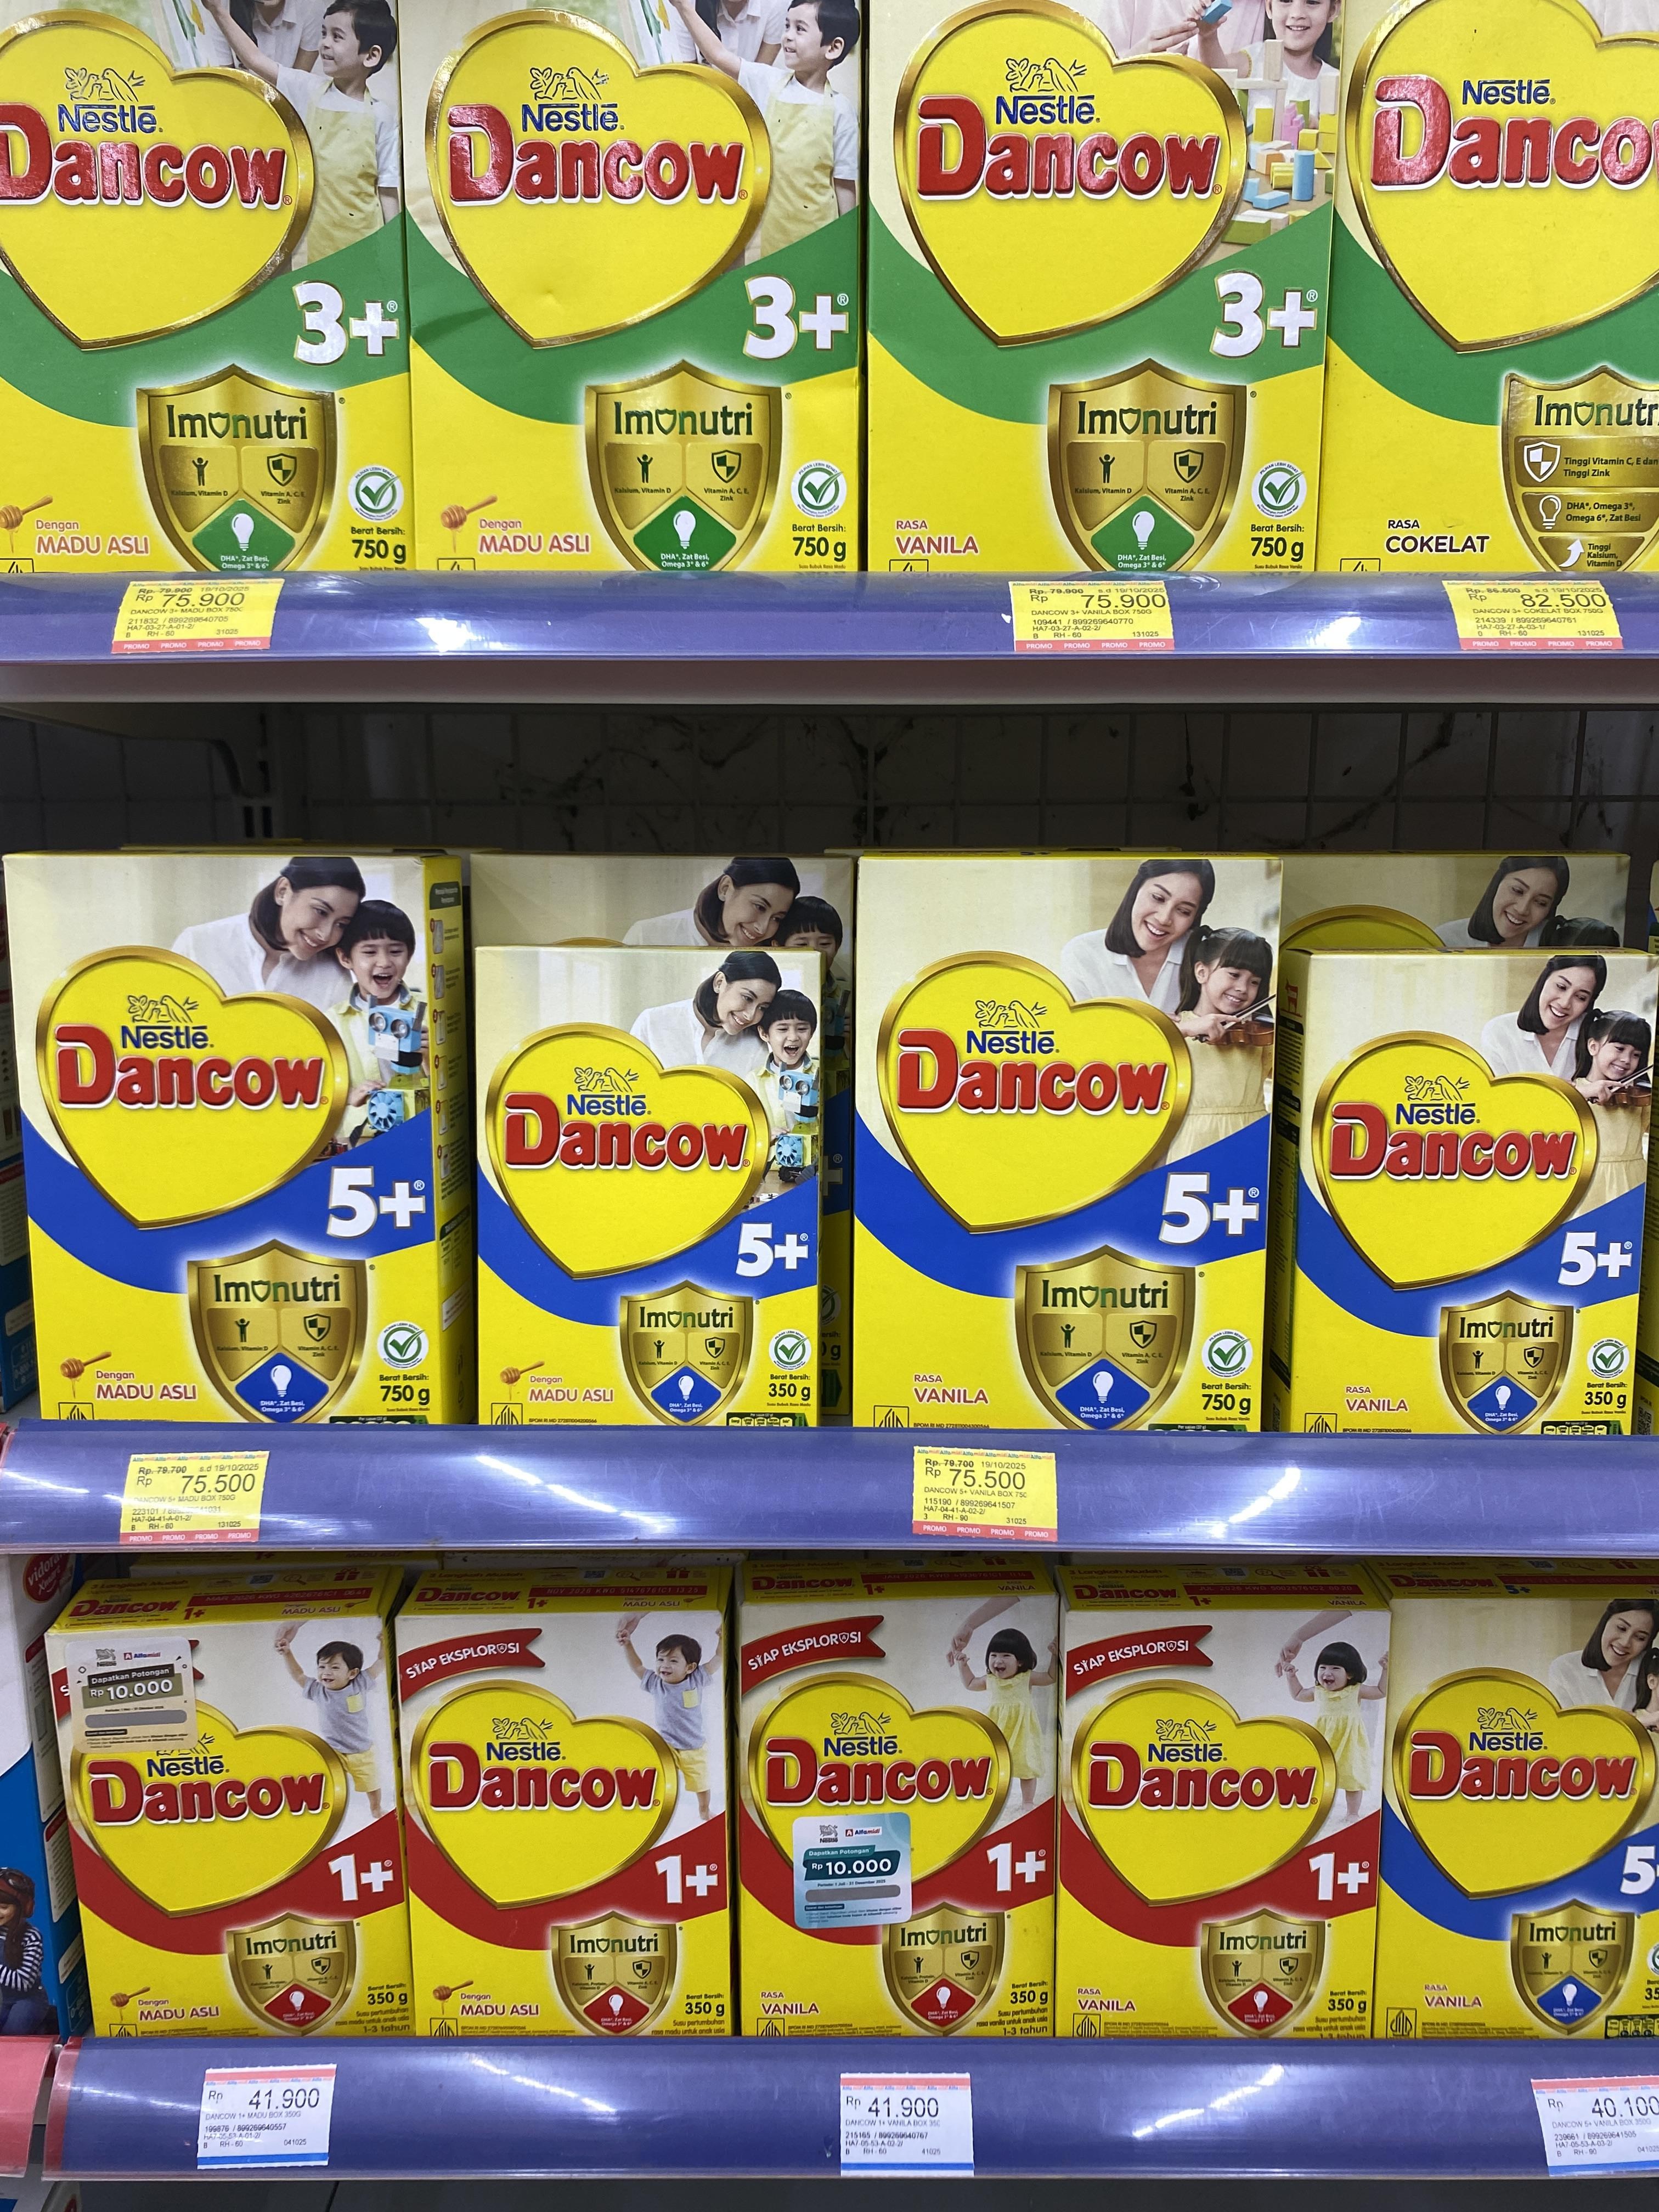DANCOW 1+ Madu Advn ExcNutr 24x400g N1 ID_REDESIGN3: (49, 1618, 416, 2043), (394, 1611, 732, 2043)
DANCOW 1+ Van Advn ExcNutr 24x400g ID_REDESIGN3: (1053, 1611, 1392, 2041), (735, 1595, 1060, 2038)
DANCOW 3+ Madu Advn ExcNutr 12x800g ID_REDESIGN3: (396, 0, 863, 592), (0, 0, 416, 582)
DANCOW 3+ Van Advn ExcNutr 12x800g ID_REDESIGN3: (859, 0, 1342, 589)
DANCOW 5+ Madu Advn ExcNutr 12x800g ID_REDESIGN3: (5, 859, 448, 1426)
DANCOW 5+ Madu Advn ExcNutr 24x400g ID_REDESIGN3: (474, 946, 823, 1435)
